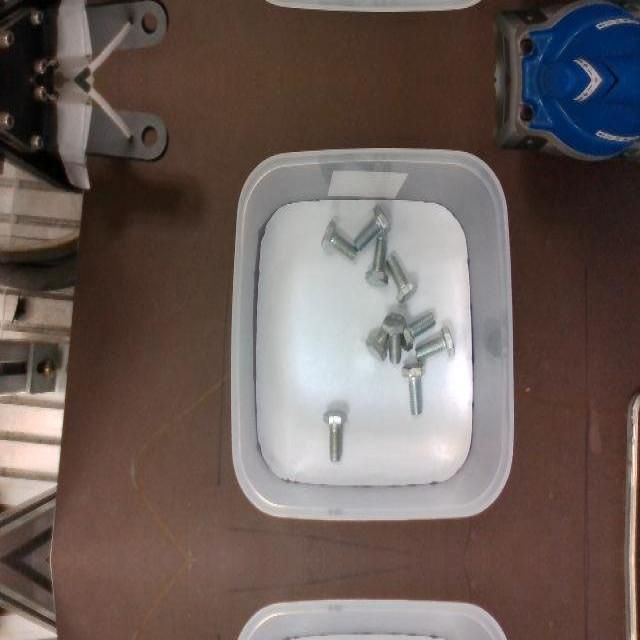screw: (353, 205, 391, 251), (385, 255, 418, 303), (321, 219, 358, 261), (415, 325, 455, 363), (322, 409, 346, 461), (401, 362, 425, 414), (382, 313, 406, 363), (364, 236, 388, 286)
